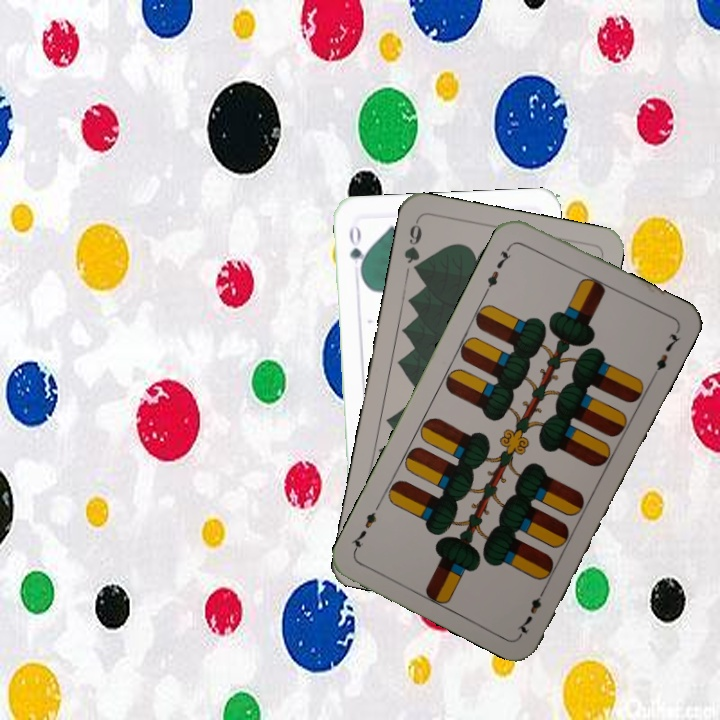E7: (512, 583, 549, 638), (481, 240, 515, 295)
G9: (400, 217, 425, 277)
GO: (345, 221, 368, 280)
